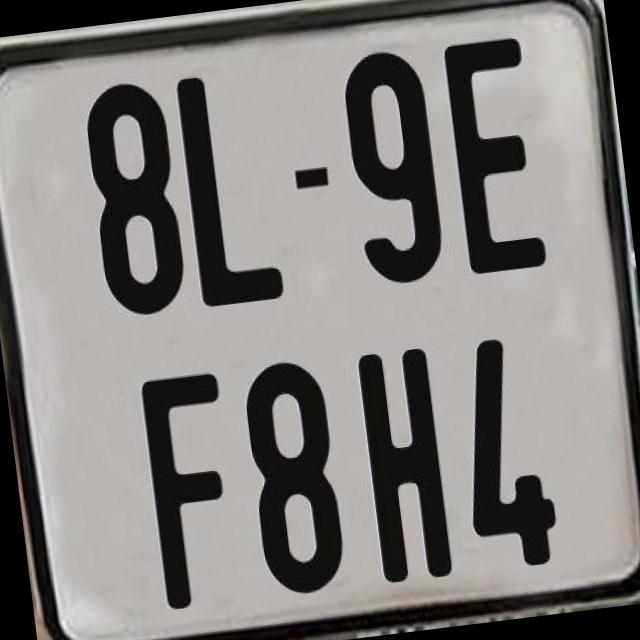4: (448, 328, 566, 568)
8: (237, 353, 351, 600), (78, 77, 188, 319)
9: (338, 46, 453, 287)
E: (439, 32, 551, 280)
F: (138, 369, 252, 613)
H: (354, 346, 461, 593)
L: (174, 66, 288, 314)
